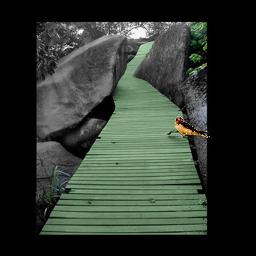Swallow: (174, 116, 212, 139)
